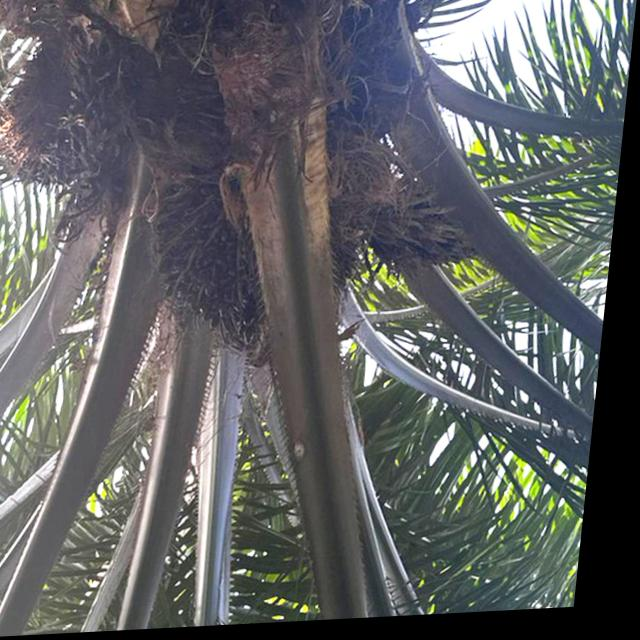ripe: (121, 157, 376, 382)
